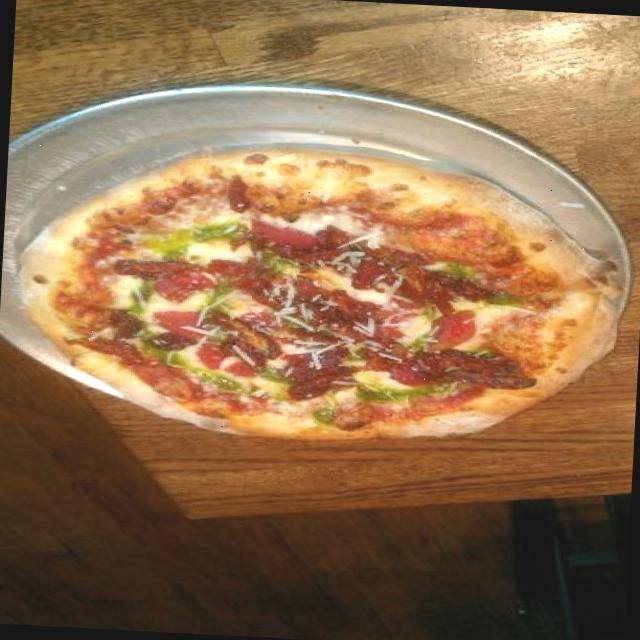basil: (132, 336, 262, 403), (150, 217, 250, 260), (346, 382, 446, 410), (117, 274, 160, 316), (200, 276, 238, 306), (312, 387, 339, 427), (260, 365, 299, 386), (484, 294, 528, 312), (404, 330, 428, 357), (432, 262, 468, 278)
pizza: (22, 148, 611, 439)
